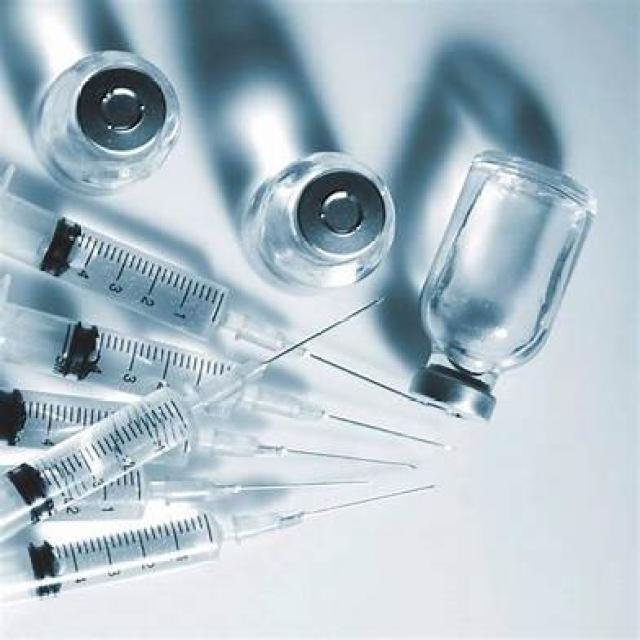vial: (302, 172, 384, 252), (82, 72, 165, 140), (421, 358, 503, 414)
